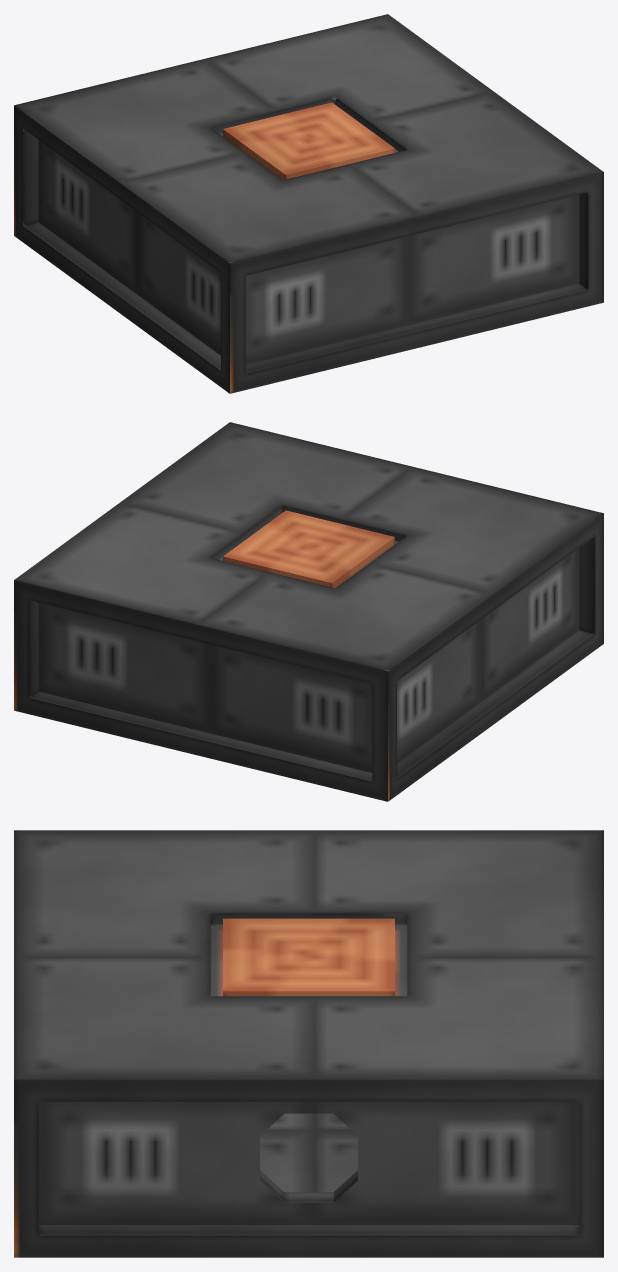
File: firebox_main.obj
3 views of the same model, one above another, from view 1: azimuth 30°, elevation 25°; view 2: azimuth 150°, elevation 25°; view 3: azimuth 270°, elevation 25° (orthographic). The views are drawn at different scales.
Parts seen in each view (by area): view 1: Main; view 2: Main; view 3: Main.
Part boxes in pixels (box(x1,y1,x2,y2)): Main: box(14, 14, 603, 393); Main: box(14, 422, 603, 801); Main: box(14, 830, 603, 1257).
Bounding box in the file's own units: 3 × 1 × 3.
